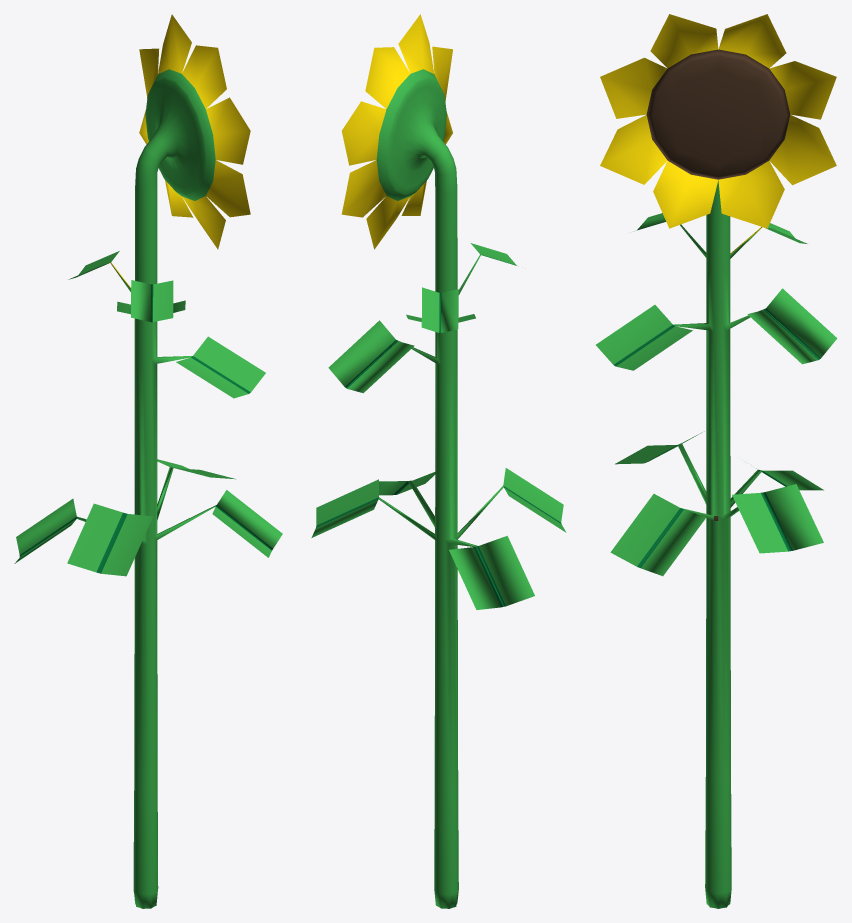
File: tournesol.glb
The picture shows the model from 3 angles, left to right: view 1: azimuth 30°, elevation 25°; view 2: azimuth 150°, elevation 25°; view 3: azimuth 270°, elevation 25°; orthographic projection. The views are drawn at different scales.
Visible parts, largest first — view 1: Cylinder.001; view 2: Cylinder.001; view 3: Cylinder.001.
Part boxes in pixels (bbox=[...]): Cylinder.001: bbox=[14, 14, 282, 908]; Cylinder.001: bbox=[311, 14, 566, 908]; Cylinder.001: bbox=[596, 14, 837, 908].
Size of the model in its own units: 0.9359 by 3.48 by 0.8341.
Materials: 2 (2 with a texture image).
